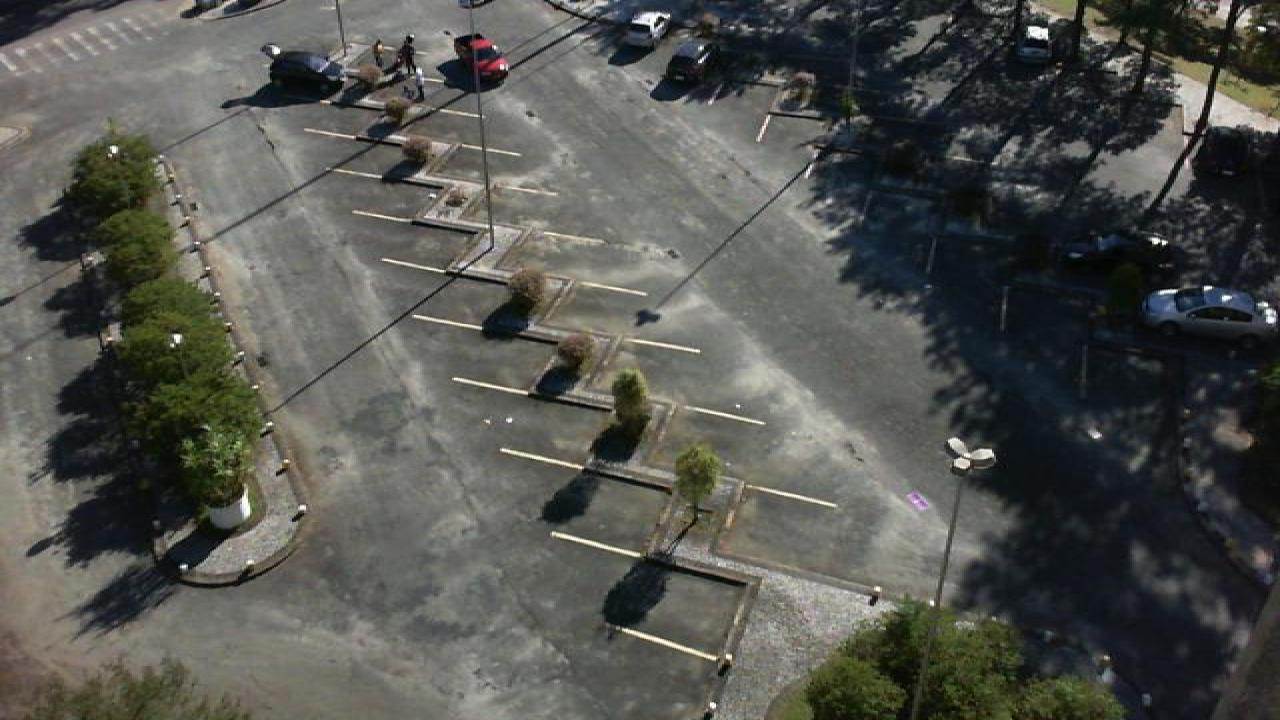Car: (1138, 284, 1278, 348), (1062, 229, 1178, 274), (262, 46, 346, 95), (452, 32, 512, 88), (660, 38, 716, 89), (614, 9, 674, 48), (1010, 18, 1060, 64)
